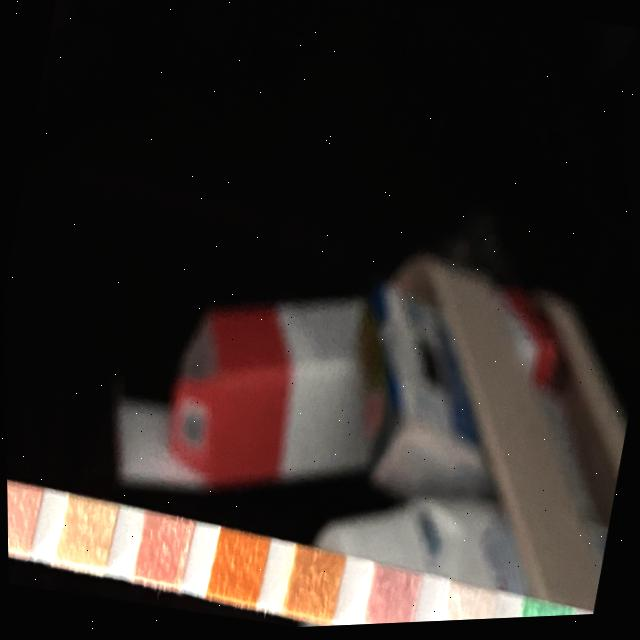Bilirubin: (432, 585, 493, 625)
Blood: (207, 528, 268, 606)
Glucose: (511, 602, 569, 622)
Ketone: (357, 565, 418, 628)
Protein: (55, 494, 116, 569)
SpGravity: (279, 546, 343, 625)
Urobilinogen: (6, 476, 40, 553)
pH: (132, 512, 192, 588)
